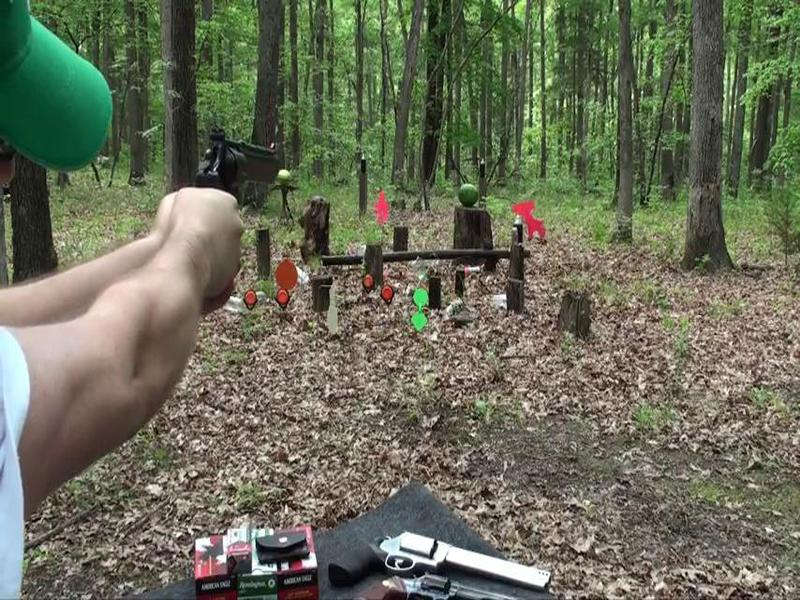Revolver: (187, 125, 298, 226)
